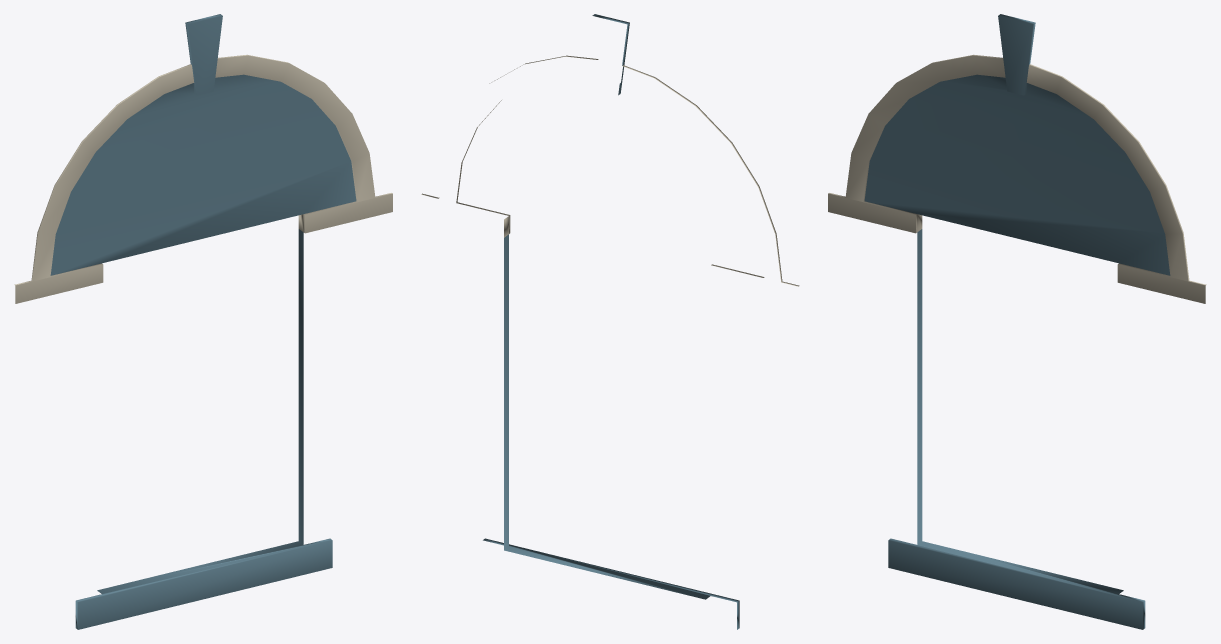
Rendered from facade-window.glb.
The picture shows the model from 3 angles, left to right: view 1: azimuth 30°, elevation 25°; view 2: azimuth 150°, elevation 25°; view 3: azimuth 330°, elevation 25°; orthographic projection.
Parts seen in each view (by area): view 1: native-arched-window|0, native-arched-window|1; view 2: native-arched-window|0, native-arched-window|1; view 3: native-arched-window|0, native-arched-window|1.
Boxes of the visible parts, x1,y1,x2,y2 form: native-arched-window|0: (50,14,356,629); native-arched-window|1: (14,54,392,303); native-arched-window|0: (483,14,739,629); native-arched-window|1: (421,55,799,286); native-arched-window|0: (864,14,1170,629); native-arched-window|1: (828,54,1206,303).
Bounding box in the file's own units: 1.02 × 1.5 × 0.0357.
